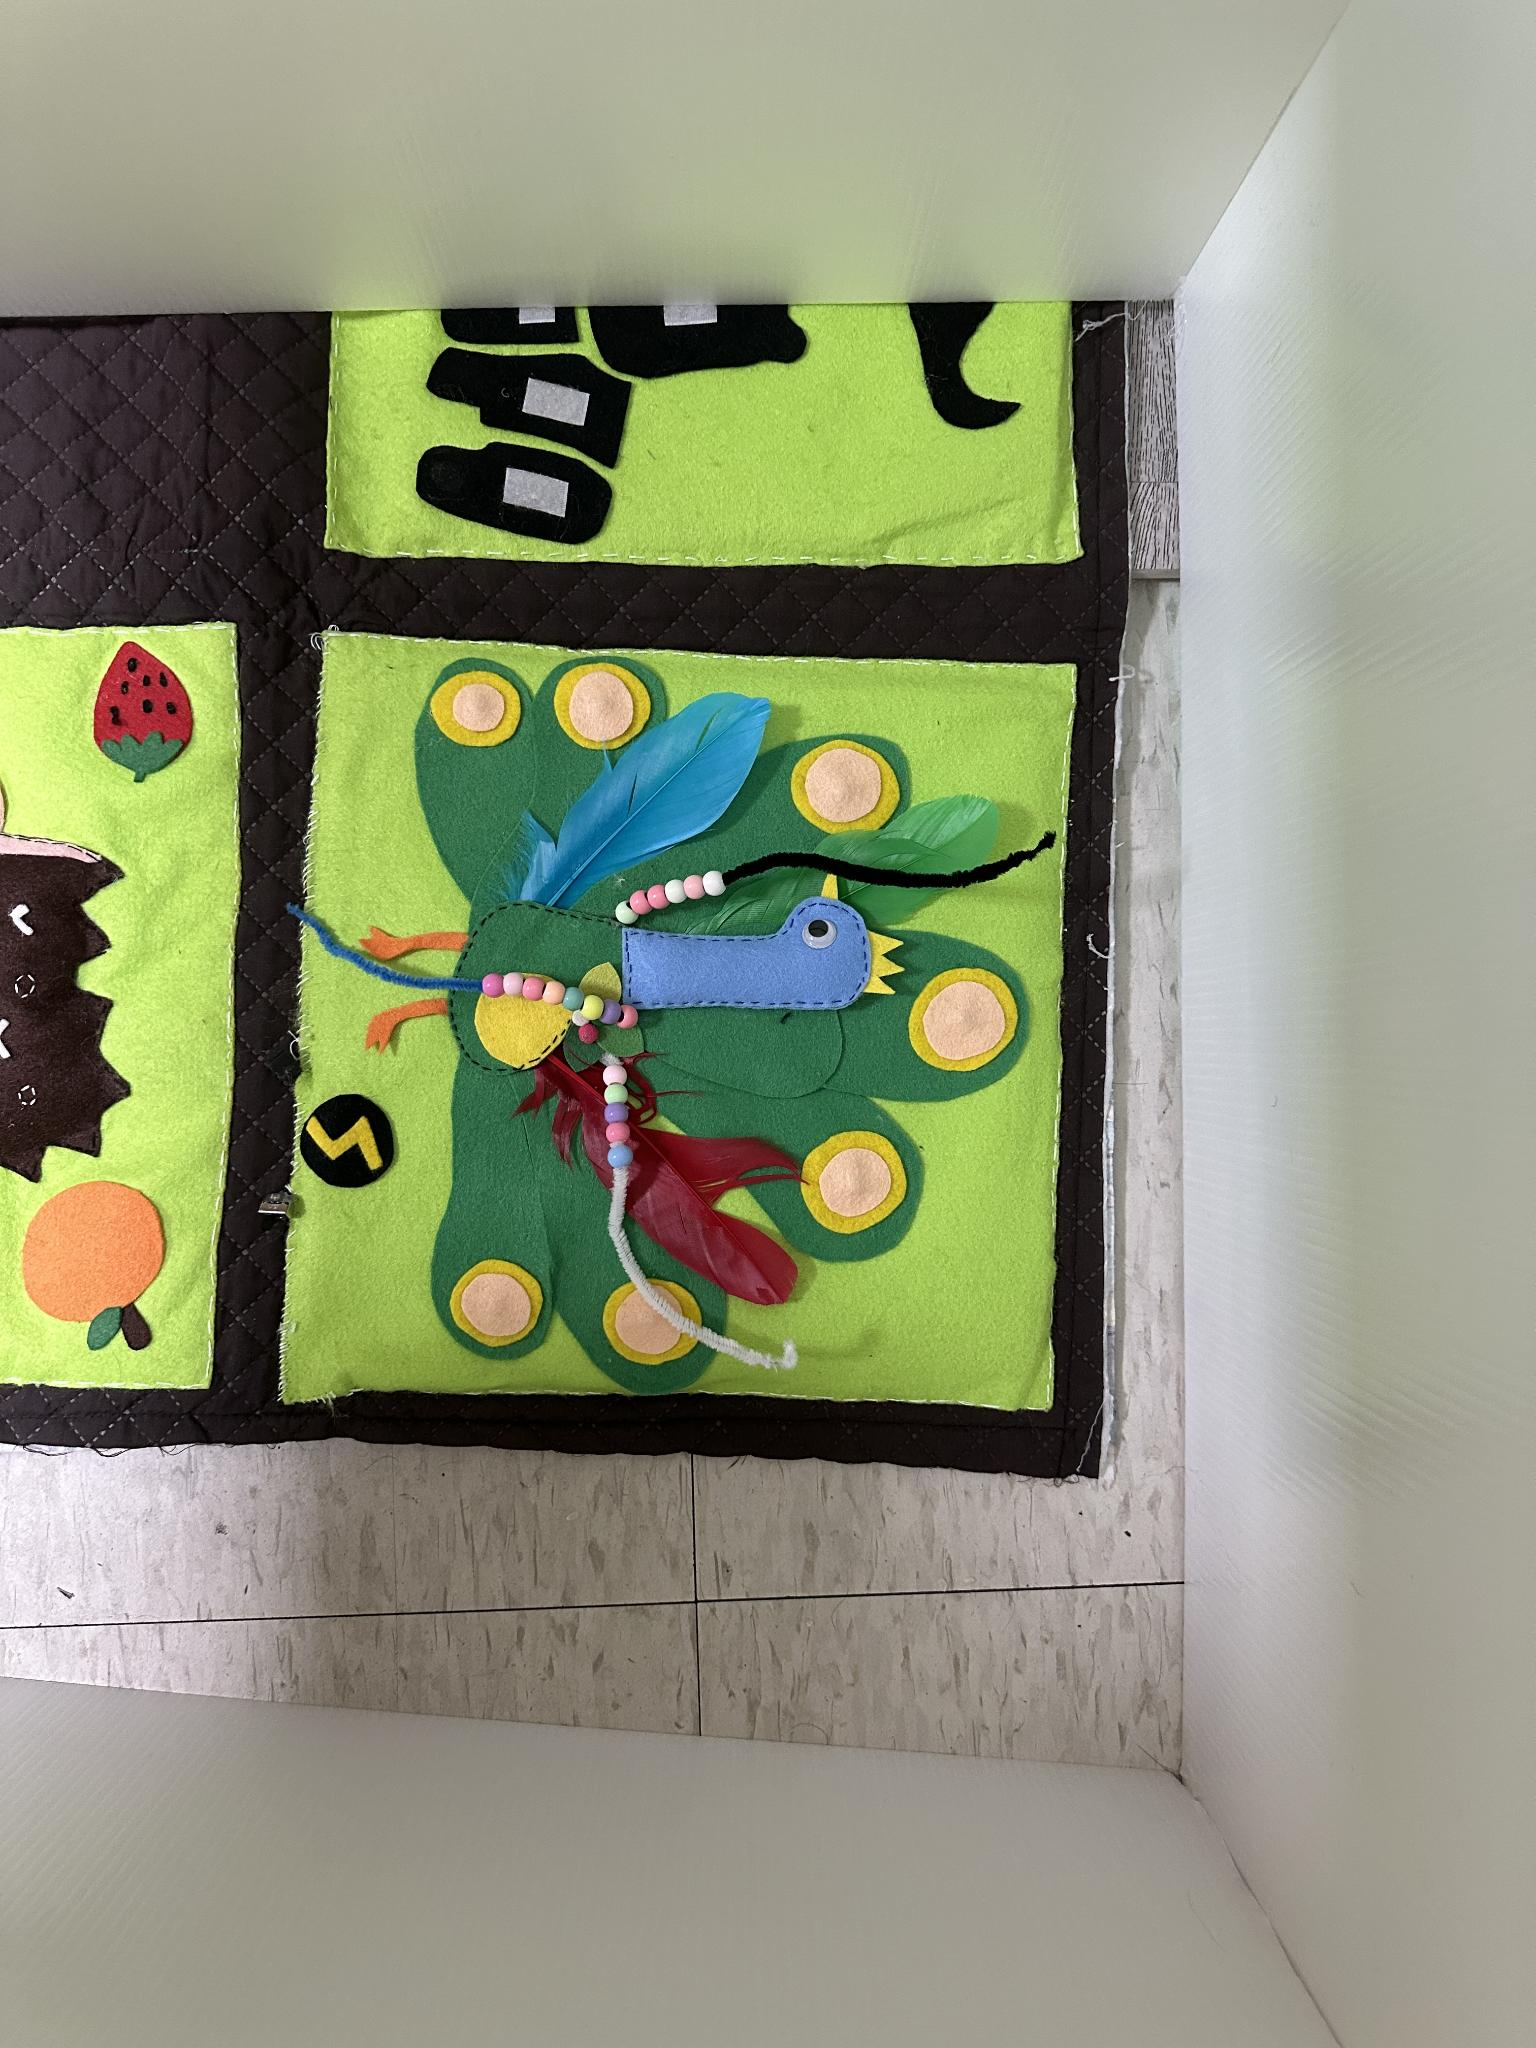bead: (579, 995, 603, 1019), (705, 869, 726, 897), (544, 980, 565, 1006), (616, 898, 637, 924), (602, 1084, 629, 1103), (523, 976, 545, 998), (503, 971, 524, 995), (565, 985, 586, 1009), (486, 971, 503, 998), (663, 880, 684, 903), (605, 1063, 626, 1085), (631, 892, 650, 916), (684, 877, 705, 898), (608, 1148, 632, 1166), (602, 1001, 623, 1021), (650, 885, 668, 908), (607, 1124, 629, 1142), (620, 1006, 637, 1027), (607, 1106, 628, 1122)
